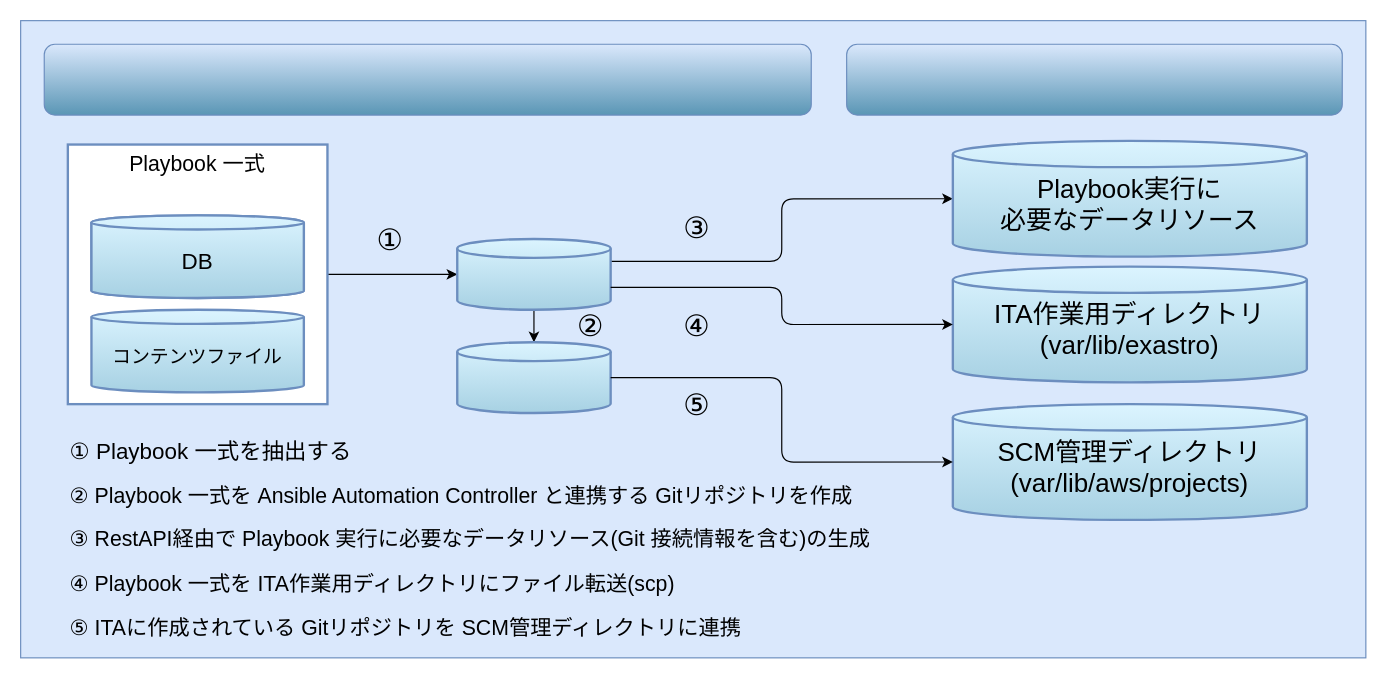
This 1386x679 diagram has some shape labels left out. Each missing label, with the centre of its shape:
"Ansible Automation Platform" goes at point (1093, 79).
"Git リポジトリ" goes at point (533, 377).
"ita-by-ansible-execute" goes at point (427, 79).
"Playbook一式" goes at point (533, 273).
